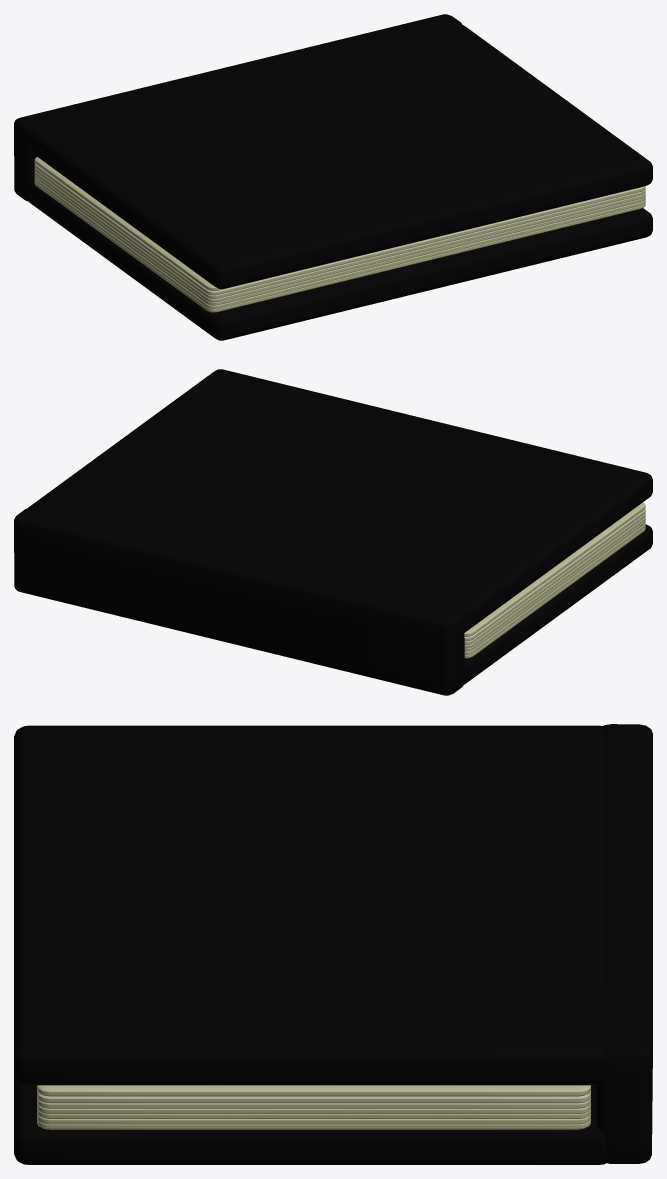
File: book3.FBX
3 views of the same model, one above another, from view 1: azimuth 30°, elevation 25°; view 2: azimuth 150°, elevation 25°; view 3: azimuth 270°, elevation 25° (orthographic). The views are drawn at different scales.
Parts seen in each view (by area): view 1: ChamferBox003, ChamferBox002, ChamferBox001, ChamferBox008, ChamferBox009, ChamferBox006, ChamferBox005, ChamferBox004, ChamferBox007, ChamferBox010; view 2: ChamferBox003, ChamferBox001, ChamferBox002, ChamferBox010, ChamferBox008, ChamferBox009, ChamferBox006, ChamferBox005, ChamferBox004, ChamferBox007; view 3: ChamferBox003, ChamferBox002, ChamferBox001, ChamferBox010, ChamferBox008, ChamferBox009, ChamferBox005, ChamferBox006, ChamferBox004, ChamferBox007.
Part boxes in pixels (x1,y1,x2,y2): ChamferBox003: [27, 24, 652, 289]; ChamferBox002: [28, 181, 652, 340]; ChamferBox001: [14, 14, 461, 201]; ChamferBox008: [34, 163, 645, 295]; ChamferBox009: [34, 167, 645, 298]; ChamferBox006: [34, 171, 645, 302]; ChamferBox005: [34, 177, 645, 308]; ChamferBox004: [34, 181, 645, 312]; ChamferBox007: [34, 174, 645, 305]; ChamferBox010: [34, 157, 641, 290]; ChamferBox003: [28, 369, 652, 632]; ChamferBox001: [14, 507, 464, 695]; ChamferBox002: [464, 524, 652, 684]; ChamferBox010: [464, 502, 645, 636]; ChamferBox008: [464, 509, 645, 641]; ChamferBox009: [464, 513, 645, 644]; ChamferBox006: [464, 516, 645, 648]; ChamferBox005: [464, 523, 645, 654]; ChamferBox004: [464, 526, 645, 658]; ChamferBox007: [464, 520, 645, 651]; ChamferBox003: [14, 725, 607, 1085]; ChamferBox002: [14, 1074, 607, 1164]; ChamferBox001: [596, 724, 652, 1163]; ChamferBox010: [37, 1085, 590, 1096]; ChamferBox008: [37, 1091, 590, 1103]; ChamferBox009: [37, 1097, 590, 1108]; ChamferBox005: [37, 1113, 590, 1124]; ChamferBox006: [37, 1103, 590, 1113]; ChamferBox004: [37, 1119, 590, 1129]; ChamferBox007: [37, 1108, 590, 1118].
Bounding box in the file's own units: 28.04 × 4.68 × 22.91.
